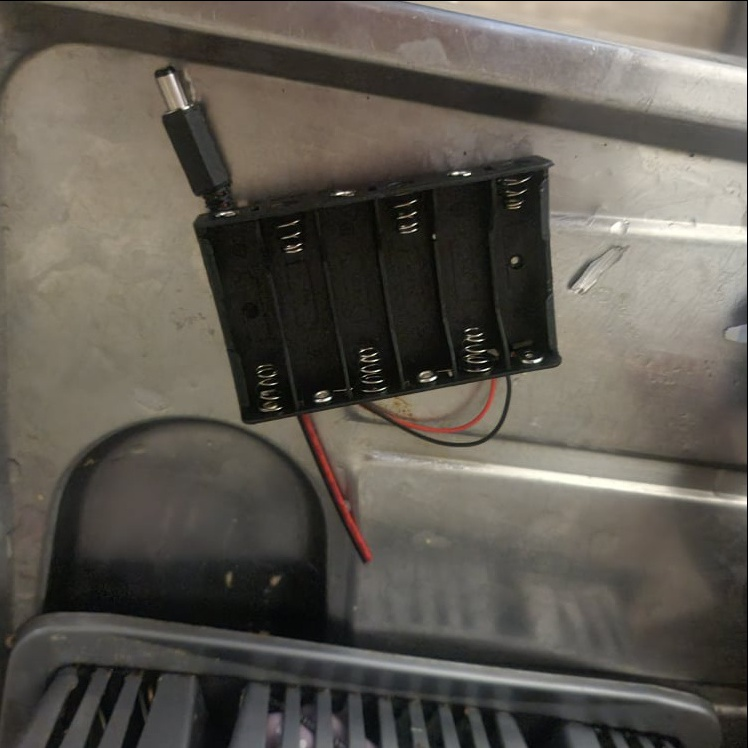BATTERY BOX: (200, 155, 565, 425)
